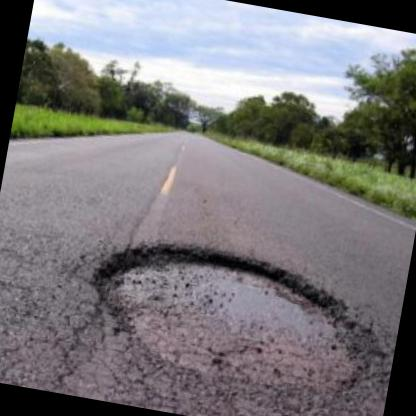pothole: (72, 225, 401, 416)
